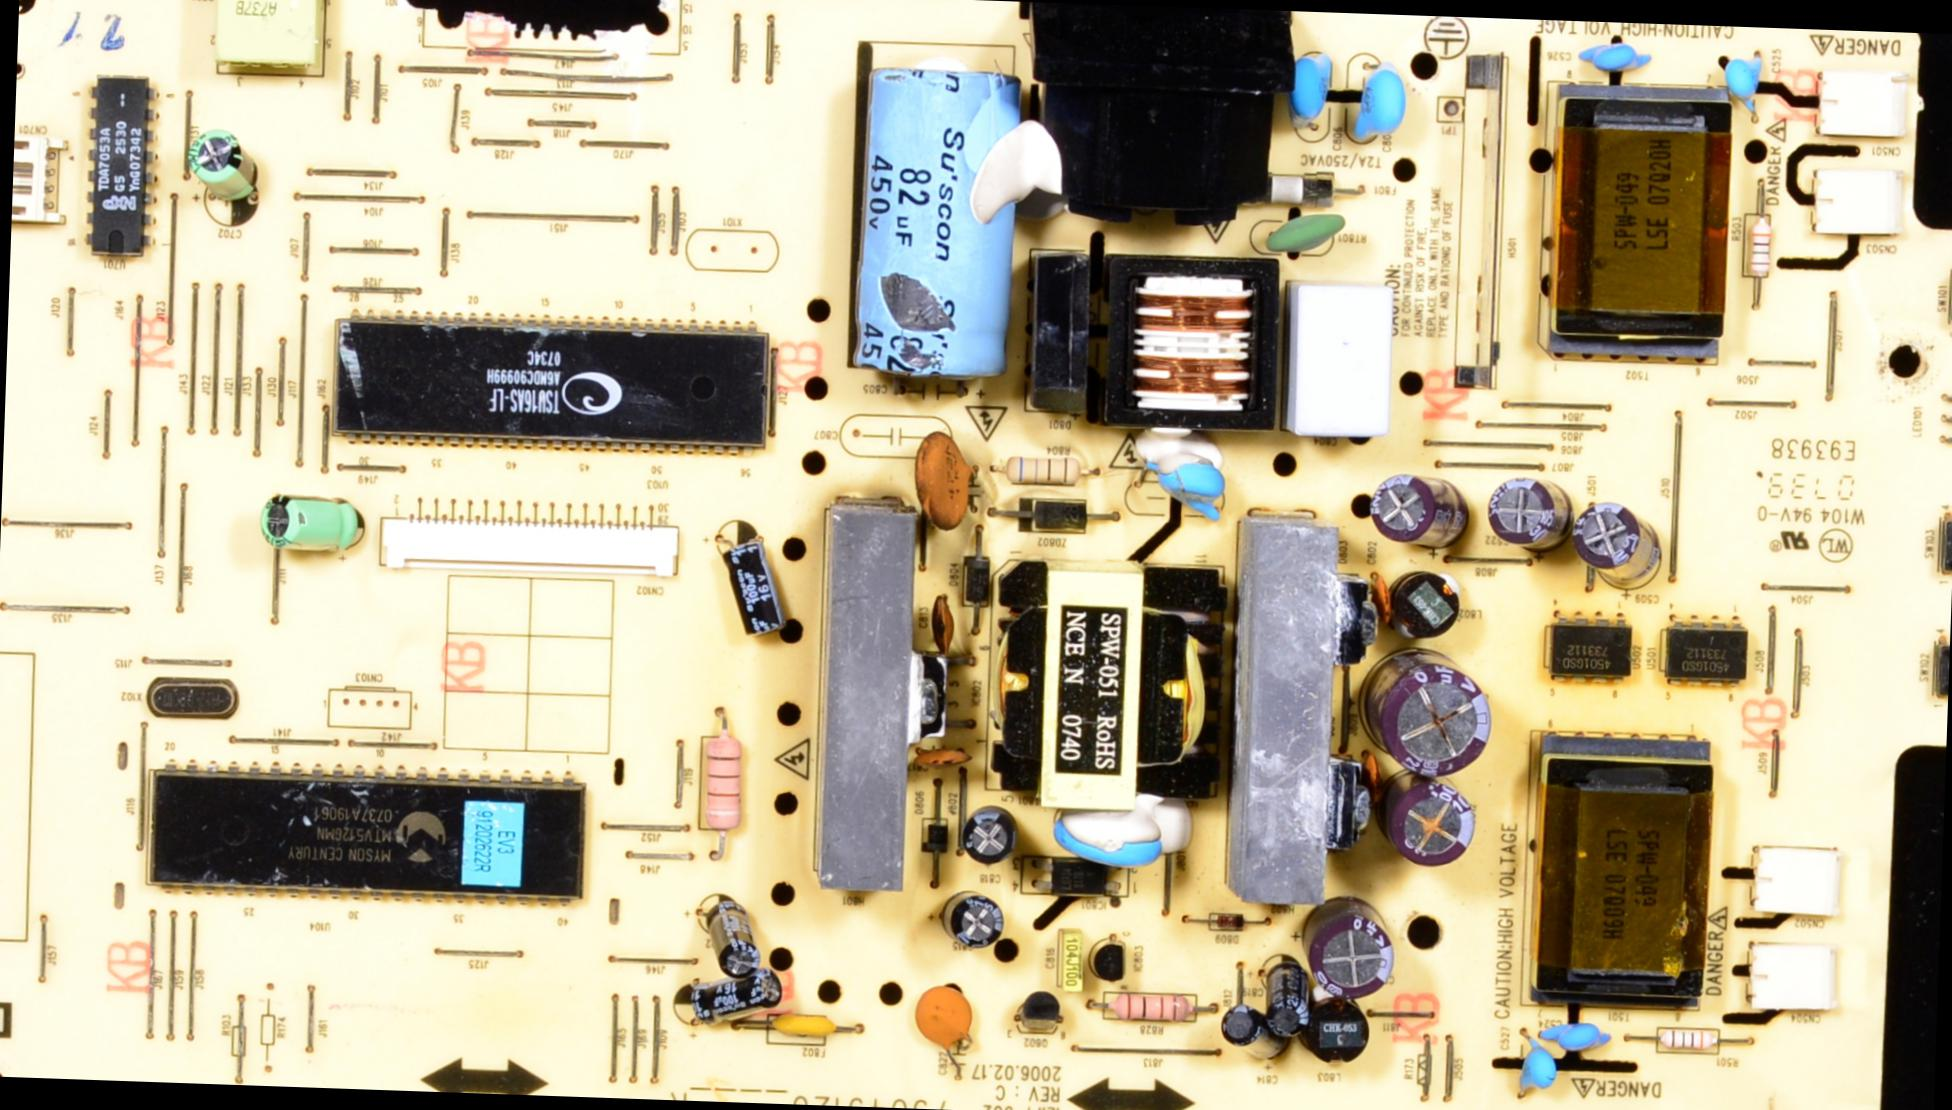Capacitor Jumper: (1302, 901, 1393, 991), (712, 526, 787, 633), (1370, 473, 1473, 550), (1381, 778, 1468, 862), (1575, 505, 1668, 584), (1481, 471, 1573, 550), (263, 485, 362, 552), (1134, 456, 1228, 516), (696, 893, 759, 983), (186, 133, 260, 202), (1052, 811, 1154, 861), (678, 968, 782, 1016), (1358, 64, 1408, 145), (944, 887, 1003, 948), (1221, 1007, 1279, 1062), (1266, 963, 1308, 1035), (1295, 50, 1329, 131), (964, 808, 1012, 863), (1518, 1030, 1552, 1105), (1583, 38, 1649, 76), (1723, 51, 1763, 114), (1539, 1019, 1610, 1052), (1058, 926, 1085, 993)
Connector: (377, 499, 681, 582), (1817, 70, 1902, 139), (1813, 169, 1900, 235), (11, 134, 68, 225)
IC: (328, 307, 778, 457), (147, 761, 589, 912), (83, 75, 160, 256), (1662, 619, 1747, 688), (1548, 617, 1632, 682)
Resistor Jumper: (698, 736, 741, 834), (1630, 1022, 1729, 1056), (1005, 450, 1081, 487), (1103, 993, 1197, 1022), (1742, 213, 1770, 275)
Transistor: (854, 60, 1023, 381)
